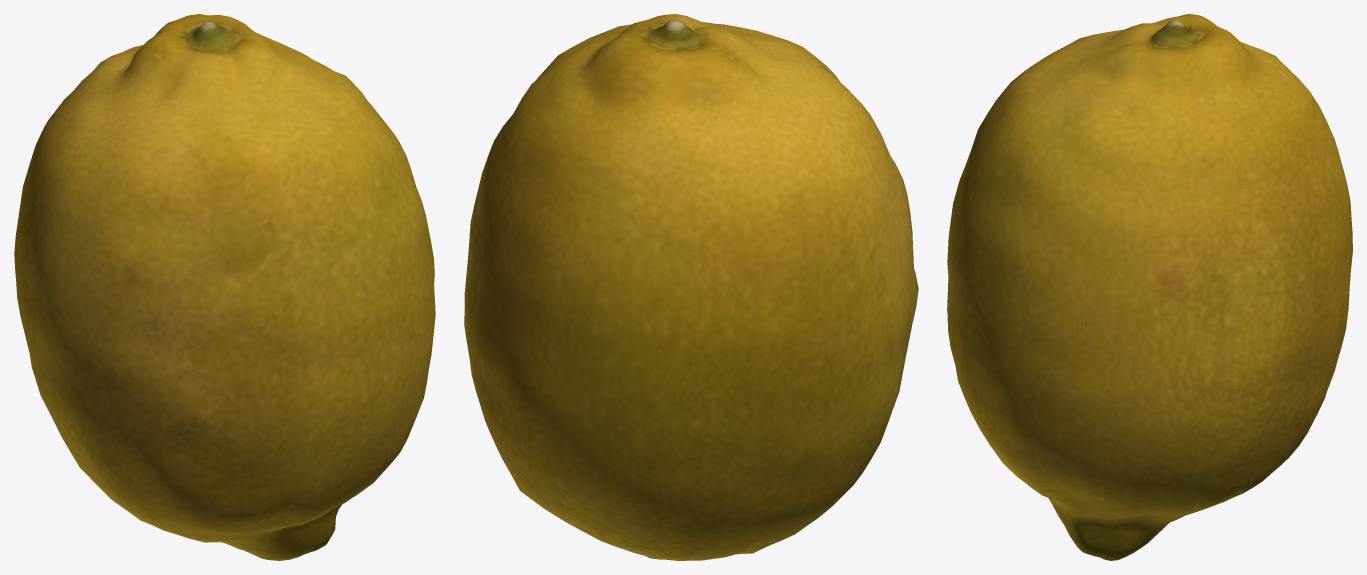
Rendered from lemon.glb.
3 views of the same model, side by side, from view 1: azimuth 30°, elevation 25°; view 2: azimuth 150°, elevation 25°; view 3: azimuth 270°, elevation 25° (orthographic). The views are drawn at different scales.
Bounding box in the file's own units: 0.0687 × 0.0954 × 0.0683.
Materials: 1 (1 with a texture image).
